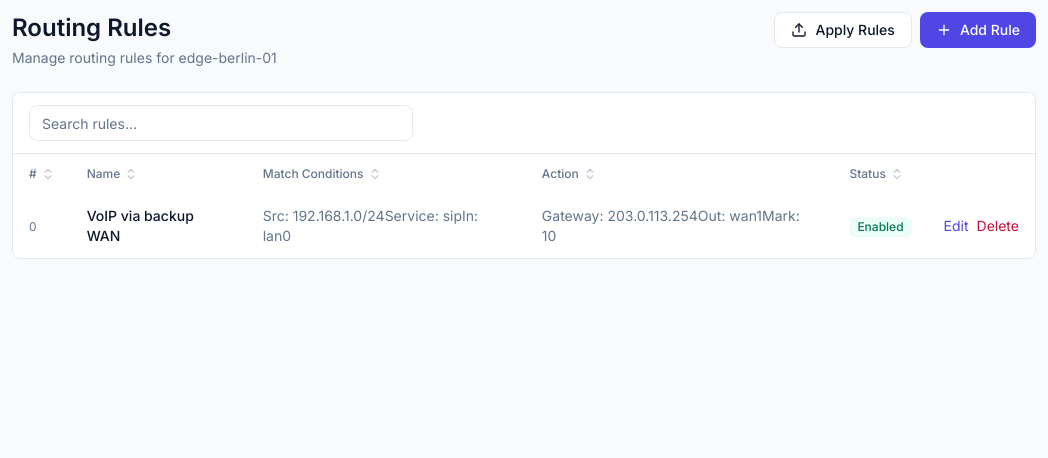
it: RoutingRules › search filters routing table
Expected: the text "VoIP via backup WAN" is shown, x1=87 y1=207 x2=194 y2=244
Type in search
Type "nonexistent-rule-xyz" into the field with placeholder "Search rules..." at (221, 123), box x1=29 y1=105 x2=413 y2=141
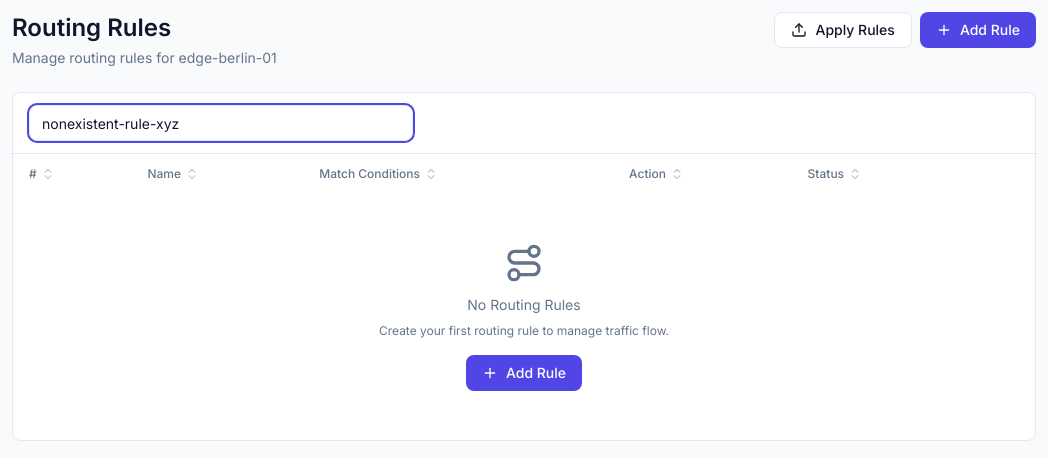
Result: the text "VoIP via backup WAN" is gone
